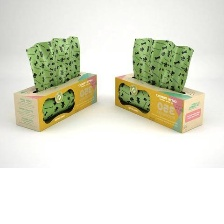book: (109, 67, 210, 137), (9, 66, 103, 135)
tissue: (126, 33, 199, 96), (22, 30, 84, 95)
